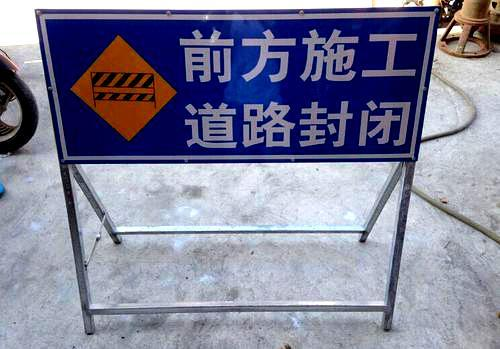sign: (38, 13, 432, 161)
